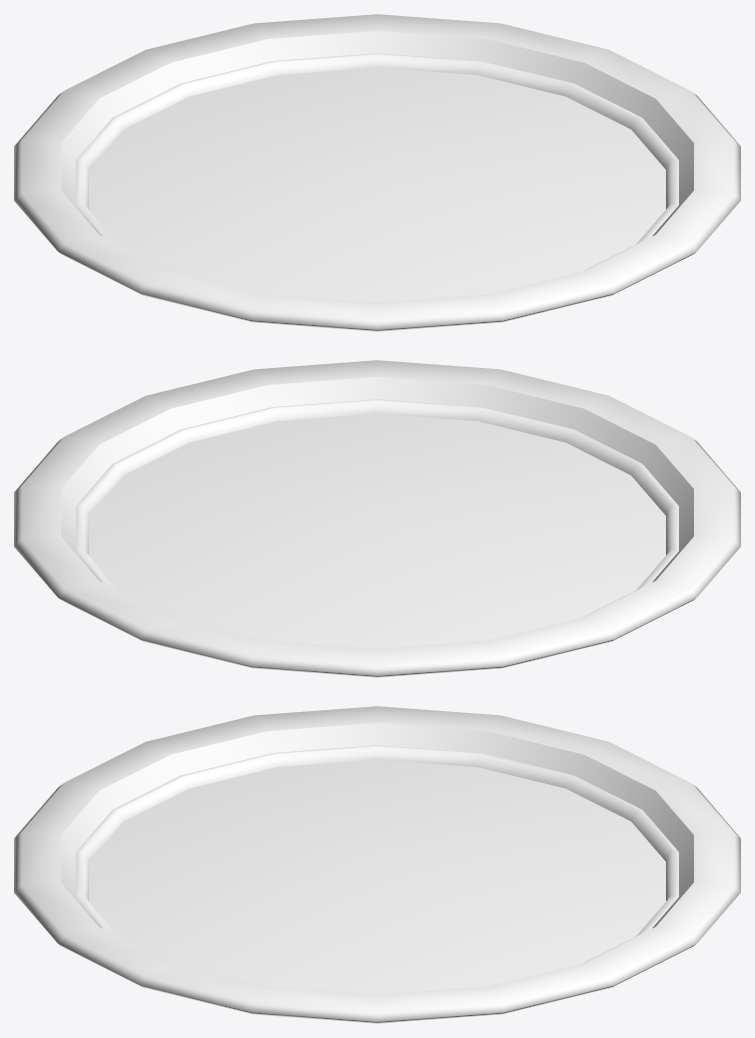
Rendered from Plate.obj.
3 renders of one model, top to bottom at view 1: azimuth 30°, elevation 25°; view 2: azimuth 150°, elevation 25°; view 3: azimuth 270°, elevation 25°, orthographic.
Visible parts, largest first — view 1: Plate; view 2: Plate; view 3: Plate.
Boxes of the visible parts, left/top/right/bottom form: Plate: left=14, top=14, right=740, bottom=331; Plate: left=14, top=360, right=740, bottom=677; Plate: left=14, top=706, right=740, bottom=1023.
Bounding box in the file's own units: 0.4443 × 0.0198 × 0.4375.
